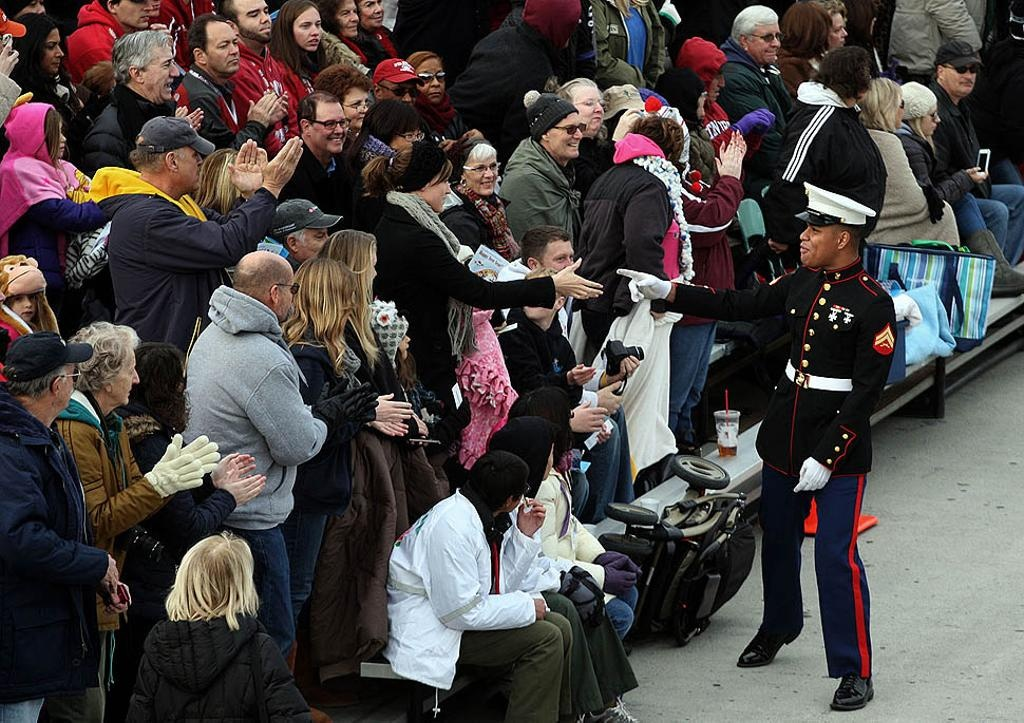human_face: (134, 46, 178, 100), (799, 216, 839, 264), (98, 356, 138, 404), (200, 25, 238, 72), (293, 220, 329, 264), (311, 106, 345, 152), (233, 0, 271, 40), (166, 146, 200, 190), (522, 276, 556, 318), (339, 86, 373, 128), (464, 152, 498, 194), (546, 114, 580, 156), (419, 168, 451, 212), (30, 32, 64, 72), (391, 122, 419, 170), (543, 246, 573, 290), (50, 362, 78, 408), (570, 88, 602, 128), (14, 0, 46, 40), (264, 277, 294, 319), (381, 76, 413, 114), (414, 61, 444, 101), (291, 10, 321, 49), (747, 26, 779, 62), (34, 121, 66, 155), (349, 250, 377, 288), (114, 0, 152, 28), (944, 61, 976, 92), (820, 15, 846, 53), (6, 286, 36, 318), (696, 68, 724, 100), (332, 1, 358, 35), (526, 445, 552, 479), (914, 105, 940, 135), (882, 94, 904, 128), (360, 0, 382, 26)
